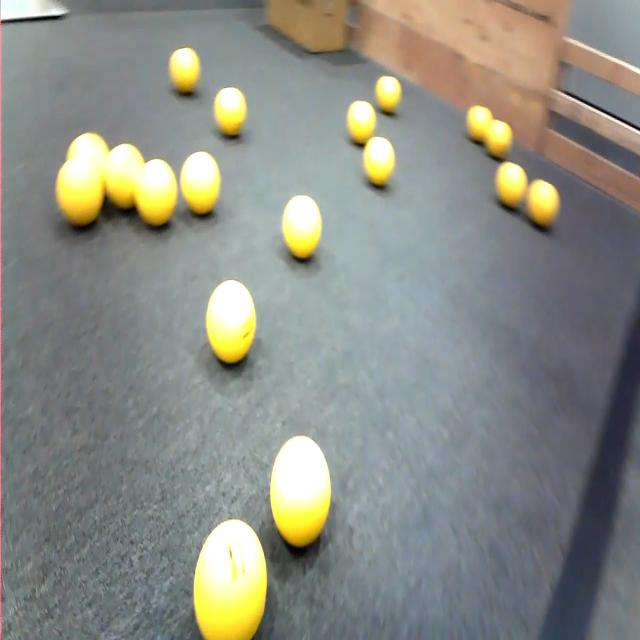fuel: (194, 520, 267, 639), (270, 436, 331, 547), (206, 280, 256, 364), (55, 156, 104, 226), (135, 159, 177, 227), (104, 144, 144, 209), (180, 152, 220, 215), (282, 195, 321, 259), (66, 132, 109, 171), (363, 136, 395, 186), (527, 180, 560, 228), (214, 88, 246, 136), (169, 47, 201, 94), (495, 162, 527, 208), (347, 101, 376, 144), (485, 120, 512, 159), (466, 105, 493, 143), (375, 76, 402, 113)
